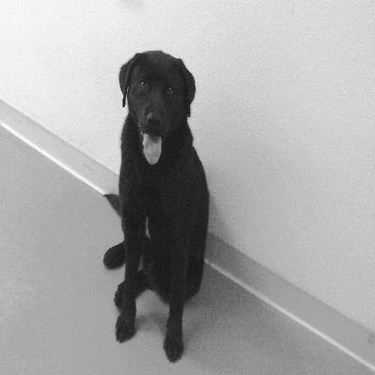dog: (95, 37, 213, 369)
